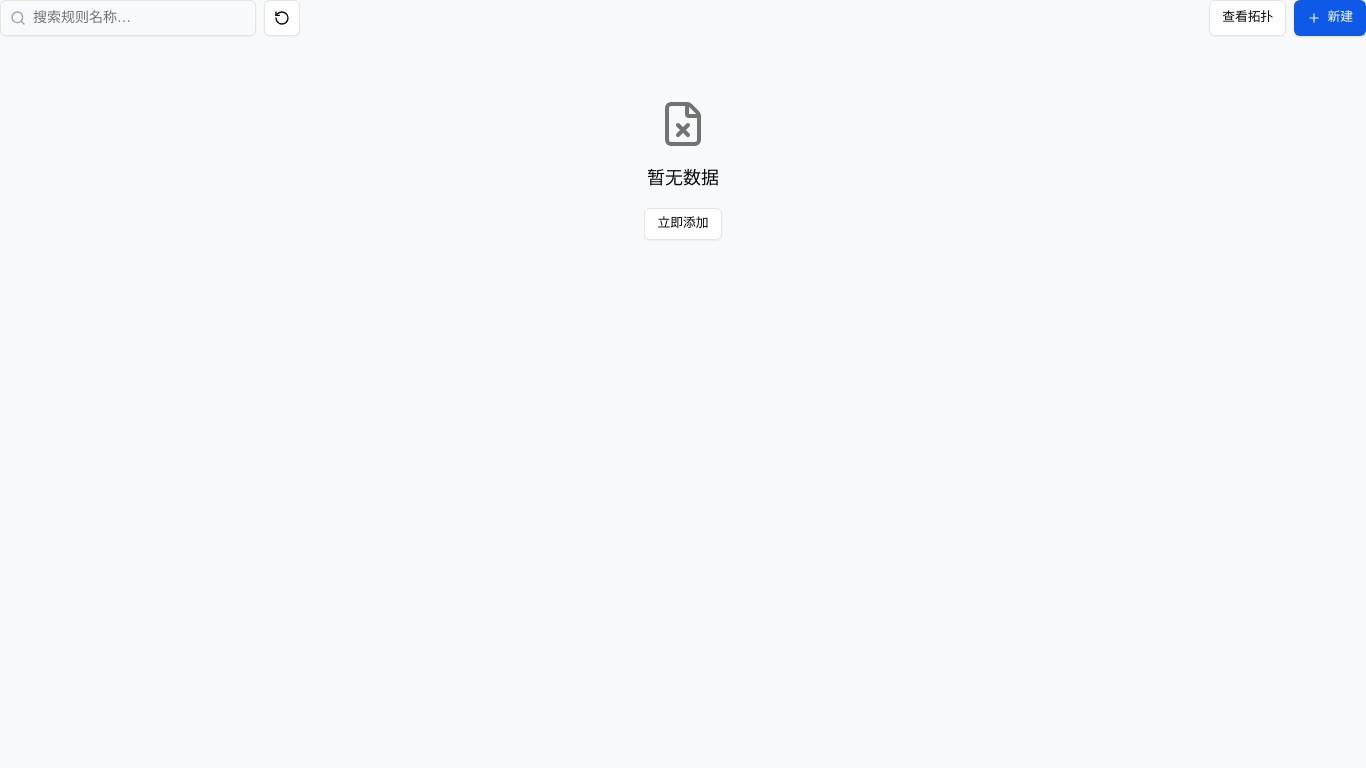
Test: RuleStep drawer › 目的地址填 127.0.0.1 → 红字「目的地址不能与网关本地地址相同」
Expected: the element with test id "mr-ob-rule-empty" is shown, left=644, top=100, right=722, bottom=240
Click the button with test id "mr-ob-rule-create": (1330, 18) left=1294, top=0, right=1365, bottom=36
(page scrolled)
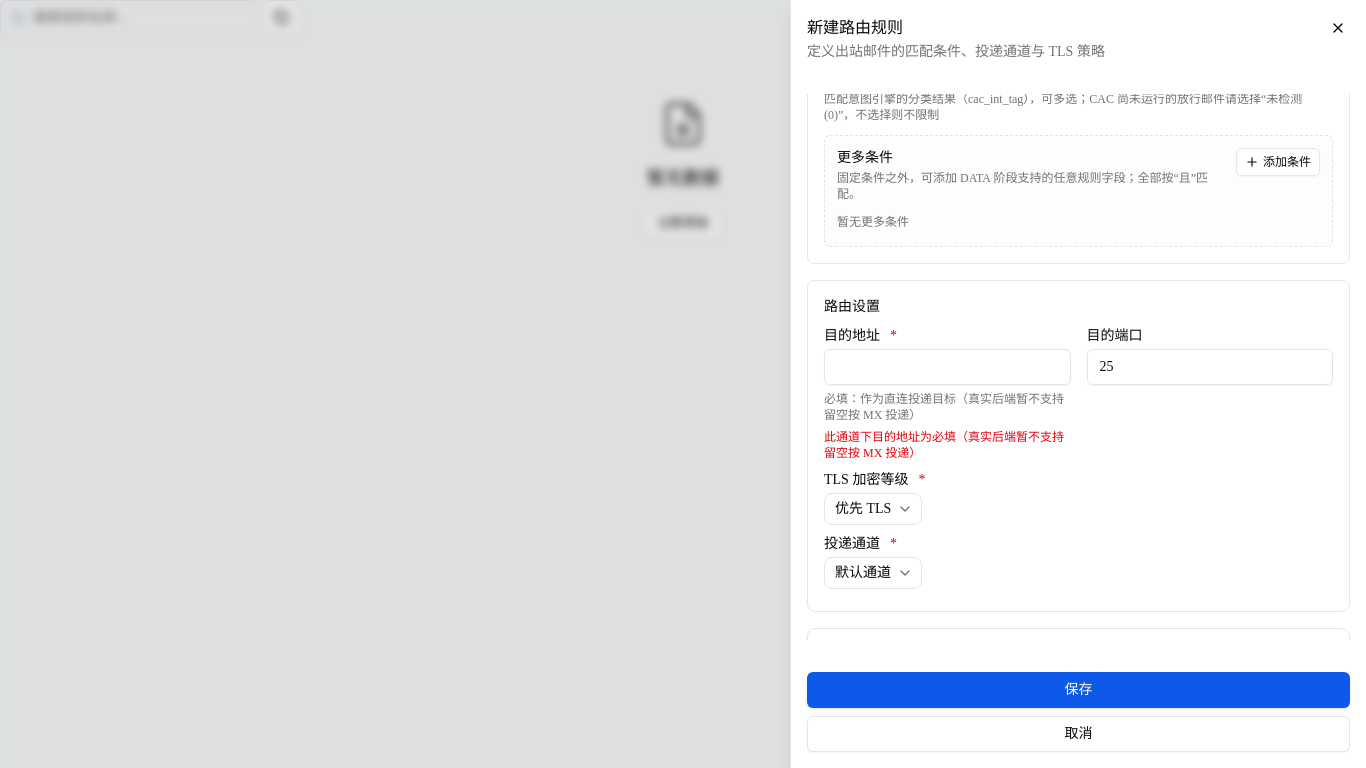
Now the dialog with test id "mr-ob-rule-drawer" is shown, box left=790, top=0, right=1365, bottom=767
In the field with test id "mr-ob-rule-target-host-input": (947, 367) left=824, top=349, right=1070, bottom=385, type "127.0.0.1"
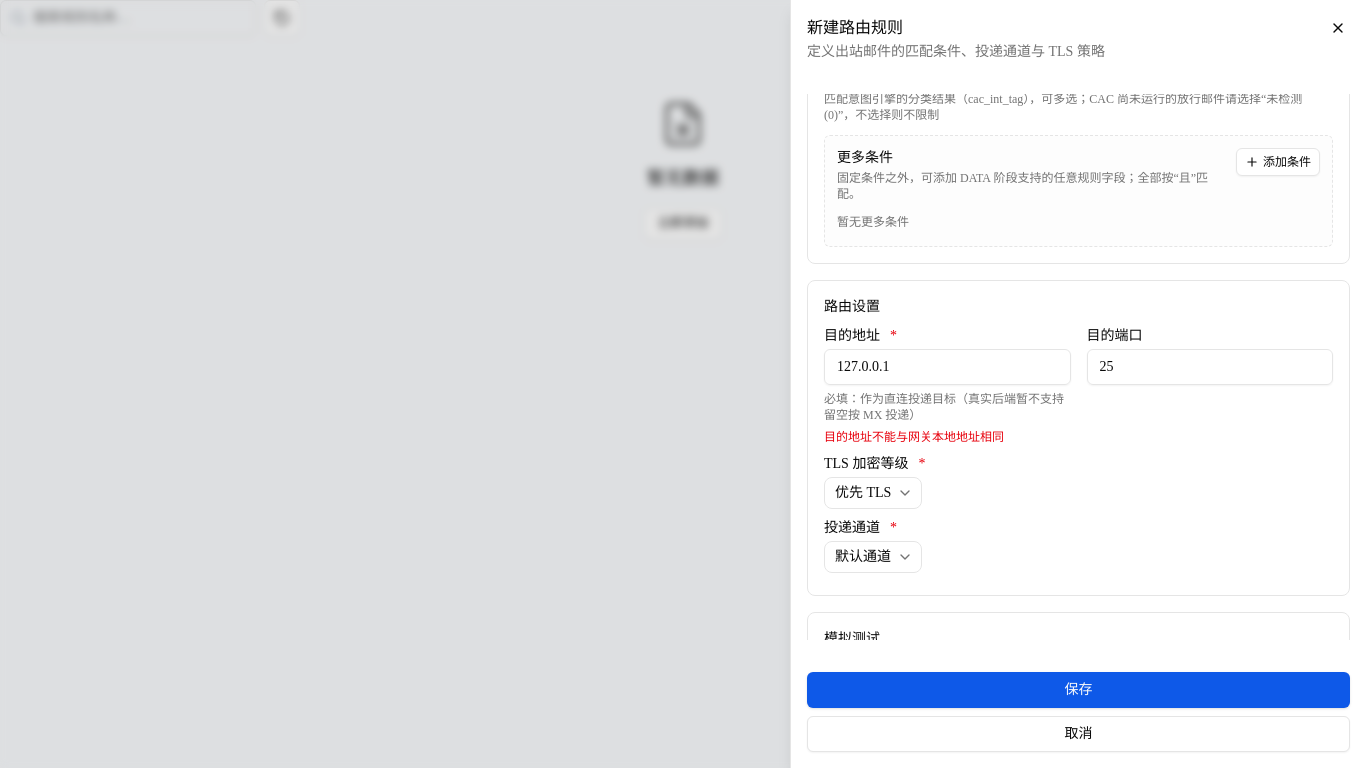
Now the text with test id "mr-ob-rule-target-host-error" reads "目的地址不能与网关本地地址相同", box left=824, top=430, right=1004, bottom=444
